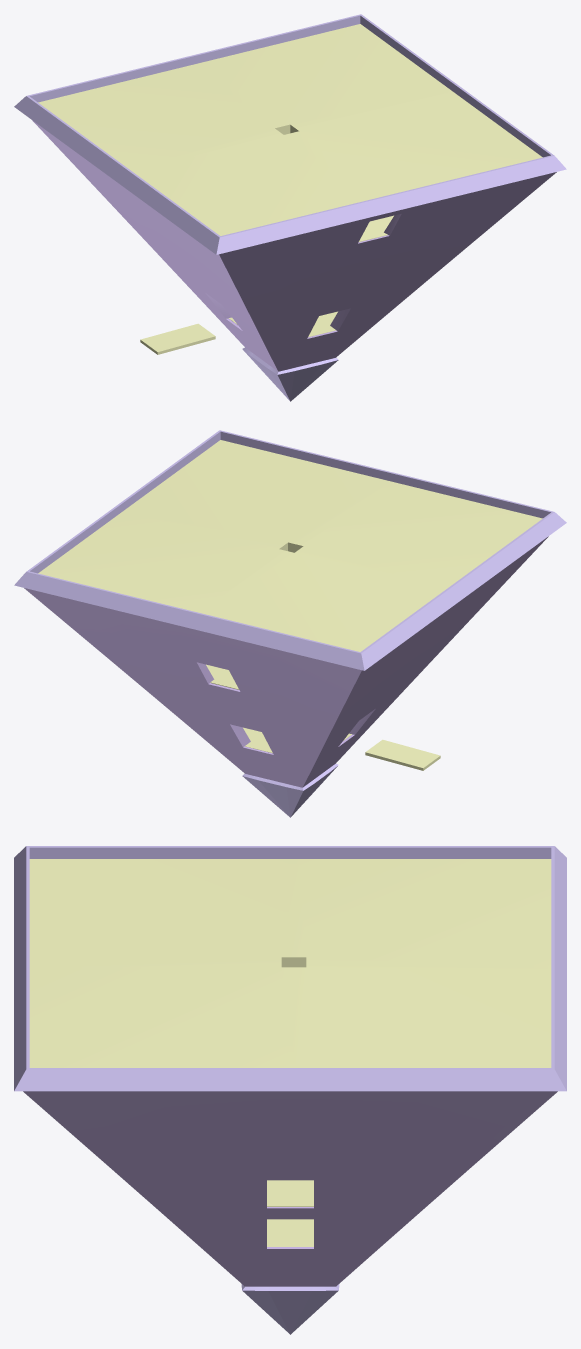
The model's file is Pyrimid1.fbx.
The picture shows the model from 3 angles, top to bottom: view 1: azimuth 30°, elevation 25°; view 2: azimuth 150°, elevation 25°; view 3: azimuth 270°, elevation 25°; orthographic projection. The views are drawn at different scales.
Parts seen in each view (by area): view 1: pyramid; view 2: pyramid; view 3: pyramid.
Boxes of the visible parts, <box> form: pyramid: <box>14,14,566,401</box>; pyramid: <box>14,430,566,817</box>; pyramid: <box>14,846,566,1334</box>.
Bounding box in the file's own units: 22180 × 16684 × 22180.
